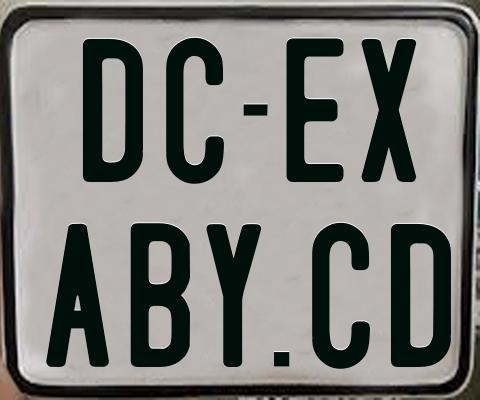A: (44, 222, 109, 368)
B: (129, 220, 195, 368)
C: (164, 37, 225, 187), (310, 222, 370, 371)
D: (390, 221, 455, 367), (83, 37, 146, 180)
E: (286, 36, 347, 184)
X: (359, 38, 417, 182)
Y: (203, 222, 260, 368)
